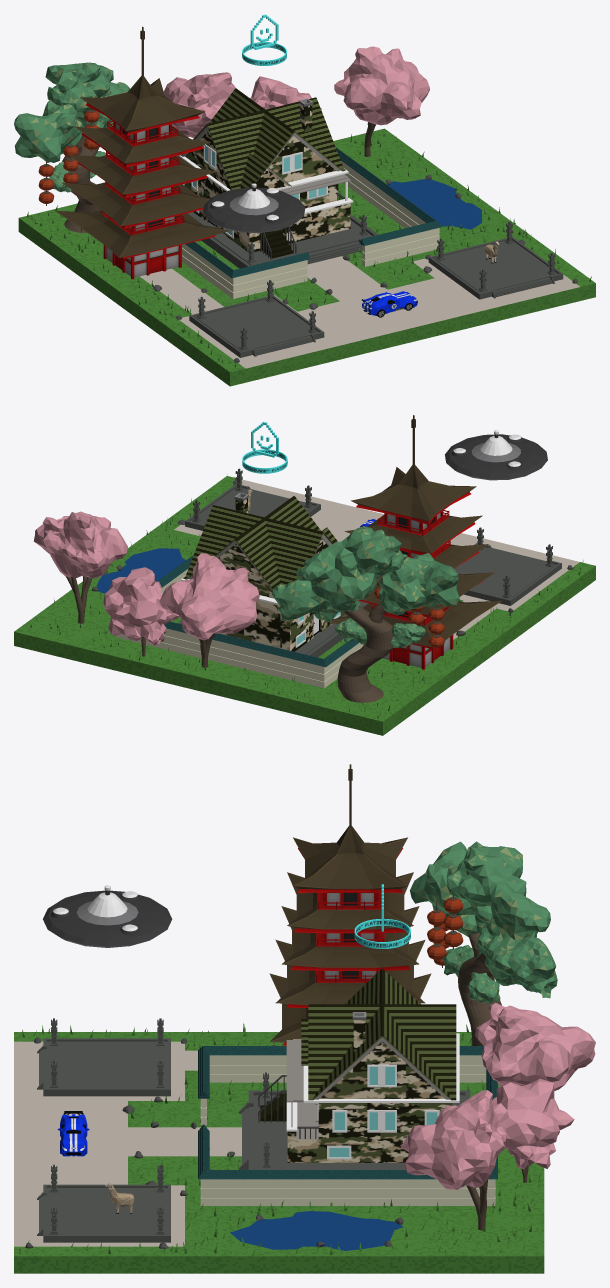
The picture shows the model from 3 angles, top to bottom: view 1: azimuth 30°, elevation 25°; view 2: azimuth 150°, elevation 25°; view 3: azimuth 270°, elevation 25°; orthographic projection. The views are drawn at different scales.
Parts seen in each view (by area): view 1: Cube.005, Cube.001, OBJRANDOM_UFO, VEHICLES_RACING_CAR, TYPE_PREMIUM; view 2: Cube.005, Cube.001, OBJRANDOM_UFO, TYPE_PREMIUM; view 3: Cube.005, Cube.001, OBJRANDOM_UFO, VEHICLES_RACING_CAR, TYPE_PREMIUM.
Part boxes in pixels (<box>): Cube.005: <box>14,26,595,386</box>; Cube.001: <box>178,88,353,259</box>; OBJRANDOM_UFO: <box>203,183,305,232</box>; VEHICLES_RACING_CAR: <box>361,291,417,317</box>; TYPE_PREMIUM: <box>242,14,286,65</box>; Cube.005: <box>14,415,595,735</box>; Cube.001: <box>181,492,345,651</box>; OBJRANDOM_UFO: <box>445,430,547,480</box>; TYPE_PREMIUM: <box>242,421,287,473</box>; Cube.005: <box>14,764,595,1273</box>; Cube.001: <box>258,969,459,1162</box>; OBJRANDOM_UFO: <box>43,885,172,947</box>; VEHICLES_RACING_CAR: <box>57,1111,89,1156</box>; TYPE_PREMIUM: <box>354,884,410,948</box>.
Size of the model in its own units: 4528 by 2842 by 4389.
Materials: 42 (8 with a texture image).
